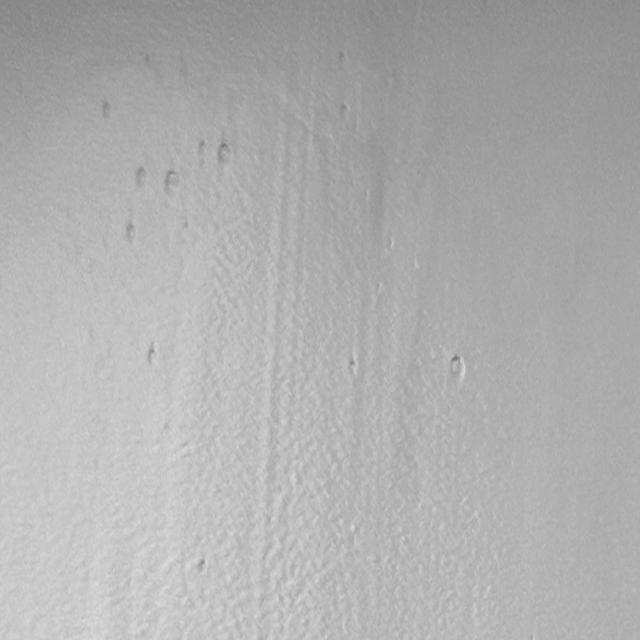pin holes: (445, 353, 469, 388), (163, 168, 184, 200), (132, 162, 152, 193), (214, 142, 234, 170), (144, 342, 164, 370), (122, 220, 141, 248), (99, 100, 118, 124), (336, 102, 355, 125), (346, 356, 363, 380), (194, 140, 210, 164), (195, 558, 209, 576)
